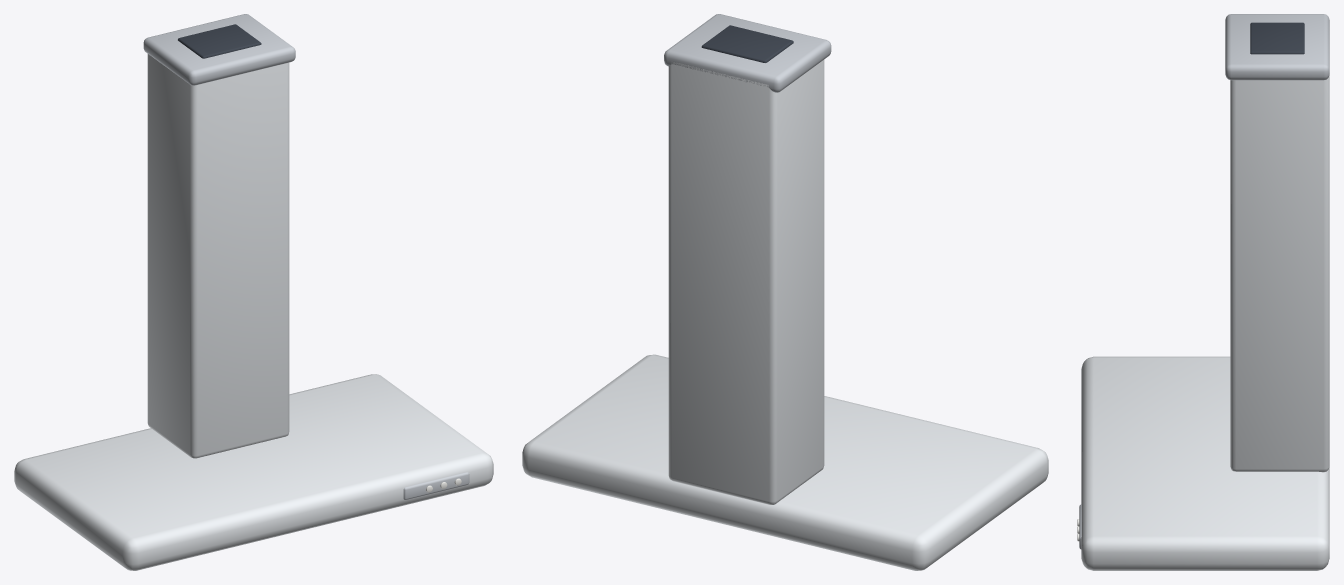
The model's file is coifa_t_branca.glb.
3 views of the same model, side by side, from view 1: azimuth 30°, elevation 25°; view 2: azimuth 150°, elevation 25°; view 3: azimuth 270°, elevation 25° (orthographic). The views are drawn at different scales.
Parts seen in each view (by area): view 1: coifa_t_branca; view 2: coifa_t_branca; view 3: coifa_t_branca.
Boxes of the visible parts, x1,y1,x2,y2 form: coifa_t_branca: [14, 14, 493, 570]; coifa_t_branca: [522, 14, 1048, 570]; coifa_t_branca: [1077, 14, 1329, 570].
Size of the model in its own units: 0.9 by 0.989 by 0.508.
2 materials, 1 textured.
